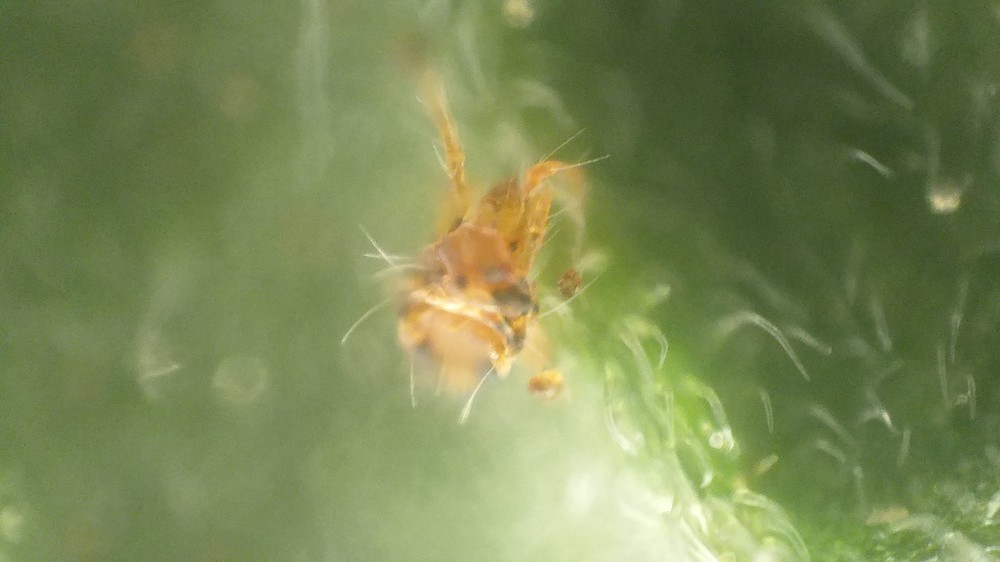Aracnido Rojo: (353, 72, 605, 427)
